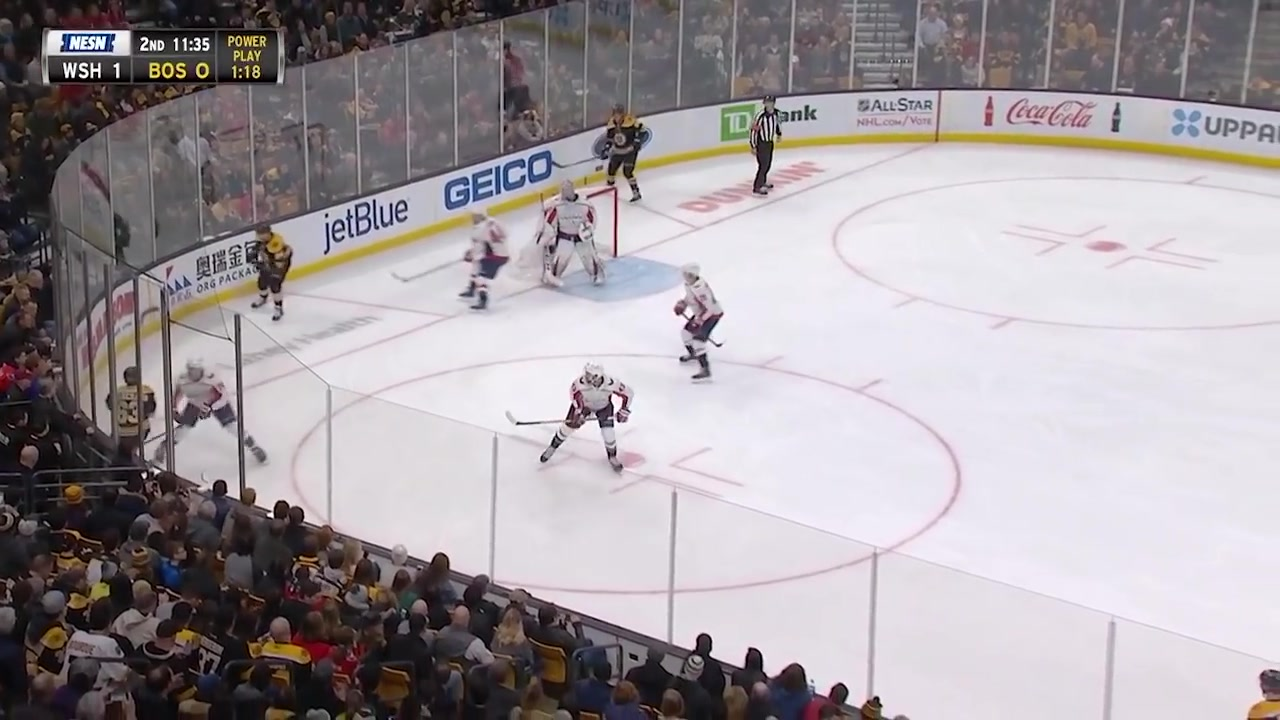geico: (448, 155, 559, 216)
